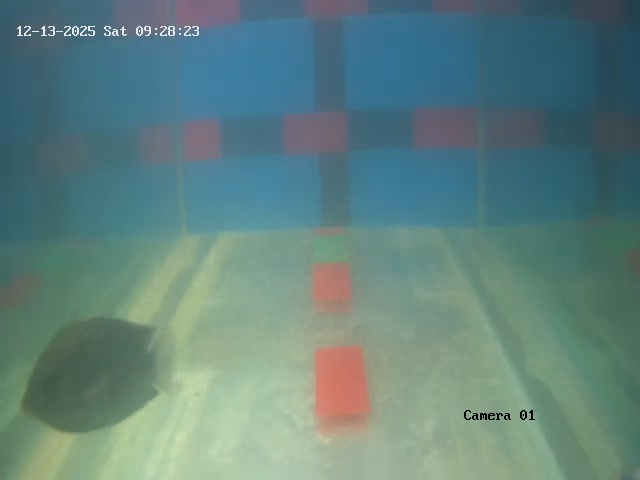fish: (25, 316, 173, 429)
